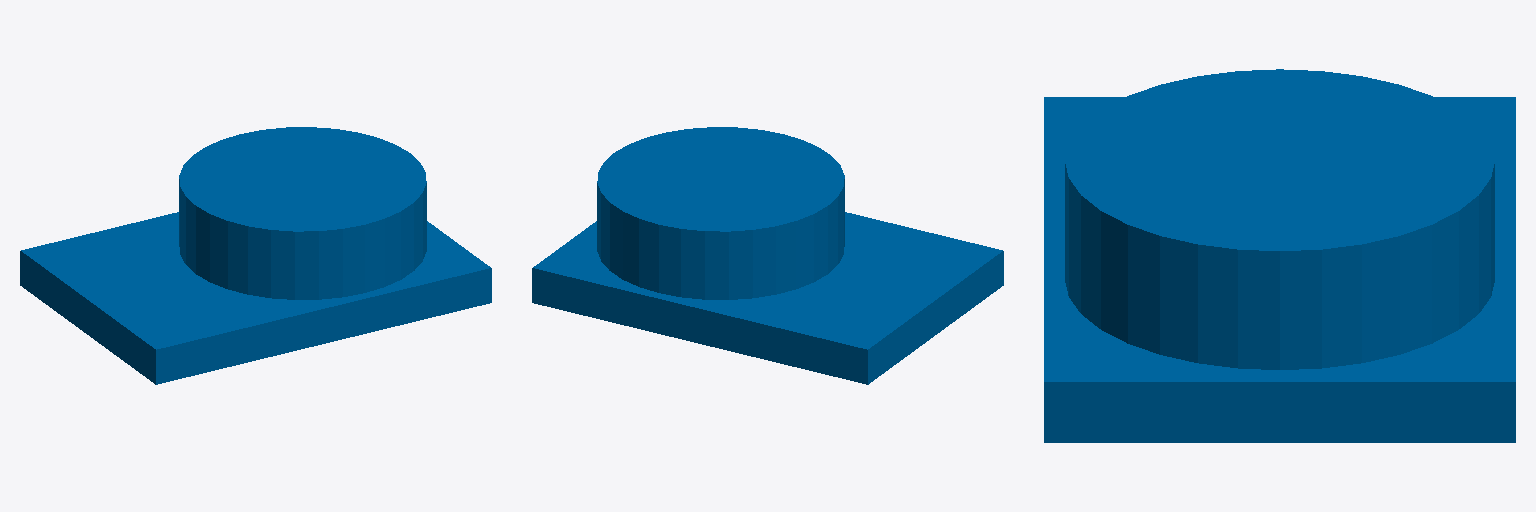
The robot description file, URDF, robot "Jetracer":
<?xml version="1.0"?>
<robot name="Jetracer" xmlns:xacro="http://ros.org/wiki/xacro">
  <webots>
      <device reference="camera" type="Camera"></device>    
      <plugin type="choirjet.webots_plugin.JetracerCrtl" />       
      <plugin type="webots_ros2_driver::Ros2IMU">
            <enabled>true</enabled>
            <updateRate>20</updateRate>
            <topicName>/imu_agent_1</topicName>
            <alwaysOn>true</alwaysOn>
            <frameName>imu_link</frameName>
            <inertialUnitName>inertial_unit</inertialUnitName>
            <gyroName>gyro</gyroName>
            <accelerometerName>accelerometer</accelerometerName>            
      </plugin>     
  </webots> 
      <link name="map">
      </link>
      <link name="odom">
      </link>
      <link name="base_link">
      </link>
      <link name="ack_link">
      </link>      
      <joint name="base_ac_link" type="fixed">
        <parent link="base_link"/>
        <child link="ack_link"/>
        <origin xyz="0.19 0 0.114" rpy="0 0 0"/>
      </joint>        
      <joint name="m2o" type="continuous">
        <parent link="map"/>
        <child link="odom"/>
        <axis xyz="0 0 1"/>
        <origin xyz="0 0 0" rpy="0 0 0"/>
      </joint>      
      <joint name="o2b" type="continuous">
        <parent link="odom"/>
        <child link="base_link"/>
        <axis xyz="0 0 1"/>
        <origin xyz="0 0 0" rpy="0 0 0"/>
      </joint>
      <link name="lidar">
        <visual>
          <origin xyz="0.014 0 -0.014" rpy="1.5708 0.00001 -1.5708"/>
          <geometry>
            <box size="0.07 0.01 0.1"/>
          </geometry>
        </visual>
        <collision>
          <origin xyz="0.014 0 -0.014" rpy="1.5708 0.00001 -1.5708"/>
          <geometry>
            <box size="0.07 0.01 0.1"/>
          </geometry>
        </collision>
        <visual>
          <origin xyz="0 0 0" rpy="0 0 0"/>
          <geometry>
            <cylinder radius="0.032" length="0.021"/>
          </geometry>
        </visual>
        <collision>
          <origin xyz="0 0 0" rpy="0 0 0"/>
          <geometry>
            <cylinder radius="0.032" length="0.021"/>
          </geometry>
        </collision>
      </link>
      <joint name="base_link_lidar_joint" type="fixed">
        <parent link="base_link"/>
        <child link="lidar"/>
        <origin xyz="0.19 0 0.114" rpy="0 0 3.14159"/>
      </joint>
      <link name="scan">
      </link>
      <joint name="base_link_scan_joint" type="fixed">
        <parent link="base_link"/>
        <child link="scan"/>
        <origin xyz="0.19 0 0.114" rpy="0 0 0"/>
      </joint>
      <link name="camera">
      </link>
      <joint name="base_link_camera_joint" type="fixed">
        <parent link="base_link"/>
        <child link="camera"/>
        <origin xyz="0.211507 0 0.067799" rpy="-1.570796 0.130898 -1.570796"/>
      </joint>  
      <link name="imu_link">
      </link>
      <joint name="base_link_imu_joint" type="fixed">
        <parent link="base_link"/>
        <child link="imu_link"/>
        <origin xyz="0.19 0 0.114" rpy="0 0 3.14159"/>
      </joint>   
      <link name="base_footprint">
      </link>  
      <joint name="base_link_base_footprint_joint" type="fixed">
        <parent link="base_link"/>
        <child link="base_footprint"/>
        <origin xyz="0.085 0 0" rpy="0 0 0"/>
      </joint> 
</robot>

--- Facts derived from the render (not from the file) ---
Views: 3 orthographic renders of the robot side by side, from view 1: azimuth 30°, elevation 25°; view 2: azimuth 150°, elevation 25°; view 3: azimuth 270°, elevation 25°.
Model Jetracer with 9 links and 8 joints (2 continuous, 6 fixed), rooted at map, posed every joint at zero.
Visible links, largest first — view 1: lidar; view 2: lidar; view 3: lidar.
Link boxes in pixels (x1,y1,x2,y2): lidar: [20, 127, 491, 384]; lidar: [532, 127, 1003, 384]; lidar: [1044, 69, 1515, 442].
Size in the robot's own frame: 0.1 by 0.07 by 0.0295 metres.
Geometry: primitives only (box / cylinder / sphere), no mesh files.